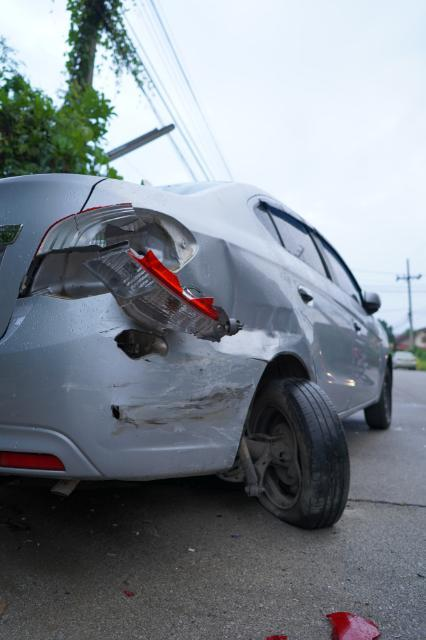crack: (115, 327, 168, 361)
dent: (192, 232, 303, 358)
lamp broken: (28, 207, 217, 341)
scratch: (107, 357, 253, 438)
tire flat: (245, 377, 352, 528)
